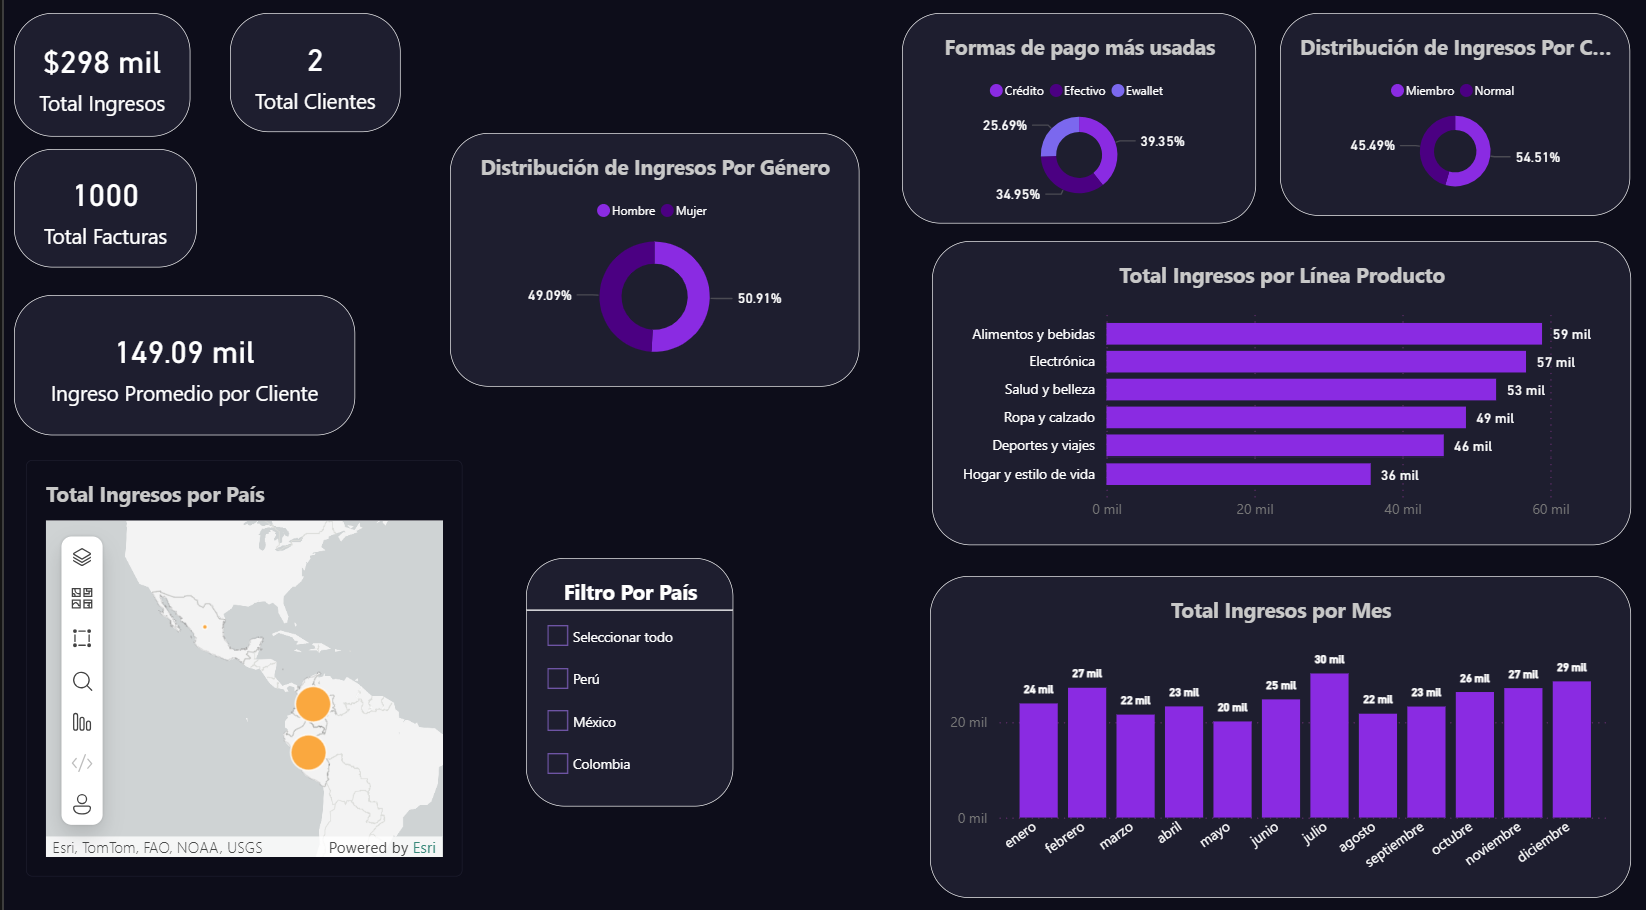

The page's visual inventory and layout, read from the dashboard file:
{"tool":"powerbi","page":{"name":"Página 1","canvas":[1280,720],"ordinal":0},"visuals":[{"type":"card","fields":{"Values":["Hoja Ingresos 2021.Total Ingresos"]},"box":[7.7,14.1,136.8,95.9],"z":0},{"type":"card","fields":{"Values":["Hoja Ingresos 2021.Total Clientes"]},"box":[175.1,14.7,132.4,92.7],"z":1000},{"type":"card","fields":{"Values":["Hoja Ingresos 2021.Total Facturas"]},"box":[7.7,120.2,142,92.1],"z":2000},{"type":"clusteredColumnChart","fields":{"Y":["Hoja Ingresos 2021.Total Ingresos"],"Category":["Hoja Ingresos 2021.Mes"]},"box":[719.4,450.2,544.4,250.1],"z":3000},{"type":"barChart","fields":{"Category":["Hoja Ingresos 2021.Línea Producto"],"Y":["Hoja Ingresos 2021.Total Ingresos"]},"box":[720.9,191.3,542.9,235.4],"z":4000},{"type":"donutChart","title":"Distribución de Ingresos Por Género","fields":{"Category":["Hoja Ingresos 2021.Género"],"Y":["Hoja Ingresos 2021.Total Ingresos"]},"box":[345.7,107.4,317.8,197.1],"z":5000},{"type":"donutChart","title":"Formas de pago más usadas","fields":{"Category":["Hoja Ingresos 2021.Pago"],"Y":["Hoja Ingresos 2021.Total Ingresos"]},"box":[697.4,13.2,275.1,163.3],"z":6000},{"type":"listSlicer","title":"Filtro Por País","fields":{"Values":["Hoja Ingresos 2021.País"]},"box":[405.4,436.1,161.1,193.1],"z":7000},{"type":"donutChart","title":"Distribución de Ingresos Por Cliente","fields":{"Y":["Hoja Ingresos 2021.Total Ingresos"],"Category":["Hoja Ingresos 2021.Cliente"]},"box":[991.6,13.2,272.2,157.4],"z":8000},{"type":"card","title":"Ingreso Promedio por Cliente","fields":{"Values":["Hoja Ingresos 2021.Ingreso Promedio por Cliente"]},"box":[7.4,232.5,264.8,108.9],"z":9000},{"type":"esriVisual","fields":{"Location":["Hoja Ingresos 2021.País"],"Size":["Hoja Ingresos 2021.Total Ingresos"]},"box":[16.6,360.6,338.9,323.6],"z":10000}]}

Visuals, with their boxes in screenshot pixels (x1, y1, x2, y2), scaled from the page's 1280x720 canvas onto the 1646x910 screenshot:
card - Hoja Ingresos 2021.Total Ingresos: crop(10, 18, 186, 139)
card - Hoja Ingresos 2021.Total Clientes: crop(225, 19, 395, 136)
card - Hoja Ingresos 2021.Total Facturas: crop(10, 152, 193, 268)
clusteredColumnChart - Hoja Ingresos 2021.Total Ingresos x Hoja Ingresos 2021.Mes: crop(925, 569, 1625, 885)
barChart - Hoja Ingresos 2021.Línea Producto x Hoja Ingresos 2021.Total Ingresos: crop(927, 242, 1625, 539)
"Distribución de Ingresos Por Género" donutChart: crop(445, 136, 853, 385)
"Formas de pago más usadas" donutChart: crop(897, 17, 1251, 223)
"Filtro Por País" listSlicer: crop(521, 551, 728, 795)
"Distribución de Ingresos Por Cliente" donutChart: crop(1275, 17, 1625, 216)
"Ingreso Promedio por Cliente" card: crop(10, 294, 350, 431)
esriVisual - Hoja Ingresos 2021.País x Hoja Ingresos 2021.Total Ingresos: crop(21, 456, 457, 865)
